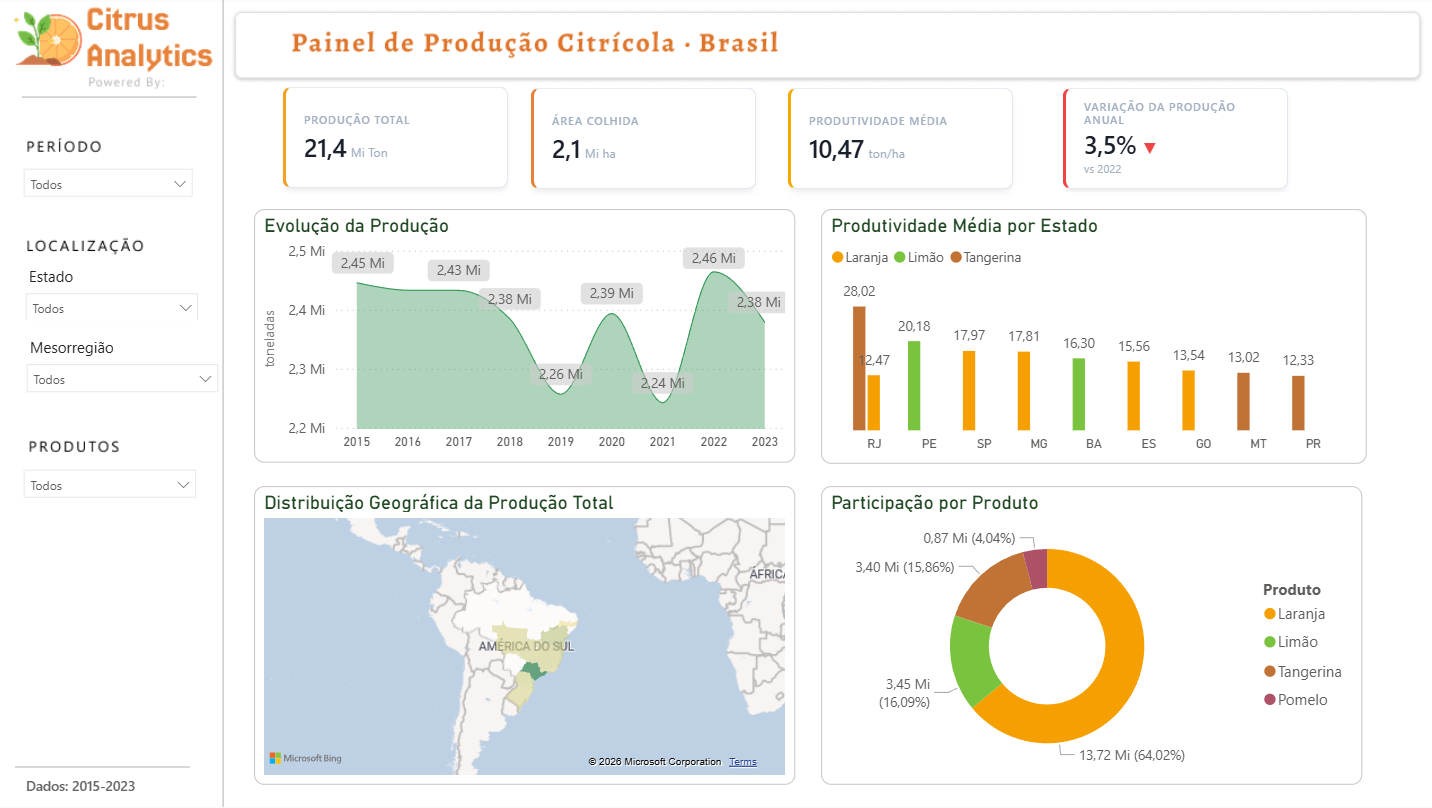

The page's visual inventory and layout, read from the dashboard file:
{"tool":"powerbi","page":{"name":"Visão Geral","canvas":[1280,720],"ordinal":0},"visuals":[{"type":"areaChart","title":"Evolução da Produção","fields":{"Category":["(FATO) Produção.ano"],"Y":["Medidas.Producao_total"]},"box":[226.2,188.1,480,225],"z":0},{"type":"htmlContent443BE3AD55E043BF878BED274D3A6855","fields":{"content":["Medidas.Card_HTML"]},"box":[246.4,74.5,211.8,103.6],"z":1000},{"type":"clusteredColumnChart","title":"Produtividade Média por Estado","fields":{"Category":["(DIM) Municipio.uf"],"Y":["Medidas.Produtividade_media"],"Series":["(DIM) Produto.nome_produto"]},"box":[728.7,188.1,483.8,226.2],"z":2000},{"type":"filledMap","title":"Distribuição Geográfica da Produção Total","fields":{"Category":["(DIM) Municipio.estado"]},"box":[226.2,433.8,480,265],"z":3000},{"type":"slicer","fields":{"Values":["(DIM) Produto.nome_produto"]},"box":[17,414,163,49],"z":4000},{"type":"slicer","fields":{"Values":["(DIM) Municipio.estado"]},"box":[18.7,238.4,163.3,47.8],"z":5000},{"type":"slicer","fields":{"Values":["(DIM) Municipio.mesorregiao"]},"box":[19.8,301.8,180,50],"z":6000},{"type":"slicer","fields":{"Values":["(FATO) Produção.ano"]},"box":[17,147,160,34],"z":7000},{"type":"htmlContent443BE3AD55E043BF878BED274D3A6855","fields":{"content":["Medidas.Card_HTML_Area"]},"box":[466.4,75.5,222.7,106.4],"z":8000},{"type":"htmlContent443BE3AD55E043BF878BED274D3A6855","fields":{"content":["Medidas.Card_HTML_Produtividade"]},"box":[694.5,75.5,231.8,110],"z":9000},{"type":"cardVisual","fields":{"Data":["Medidas.dados_ate"]},"box":[0,677.8,181.1,42.2],"z":10000},{"type":"htmlContent443BE3AD55E043BF878BED274D3A6855","fields":{"content":["Medidas.Card_HTML_Variacao"]},"box":[938.2,75.5,231.8,102.7],"z":11000},{"type":"donutChart","title":"Participação por Produto","fields":{"Y":["Medidas.Producao_total"],"Category":["(DIM) Produto.nome_produto"]},"box":[728.8,433.8,480,265],"z":12000}]}

Visuals, with their boxes on the page's 1280x720 design canvas (x1, y1, x2, y2). These are canvas units, not pixel positions in the 1432x808 screenshot, which may show the page scaled, cropped or inside an application window:
"Evolução da Produção" areaChart: select_region(226, 188, 706, 413)
htmlContent443BE3AD55E043BF878BED274D3A6855 - Medidas.Card_HTML: select_region(246, 74, 458, 178)
"Produtividade Média por Estado" clusteredColumnChart: select_region(729, 188, 1212, 414)
"Distribuição Geográfica da Produção Total" filledMap: select_region(226, 434, 706, 699)
slicer - (DIM) Produto.nome_produto: select_region(17, 414, 180, 463)
slicer - (DIM) Municipio.estado: select_region(19, 238, 182, 286)
slicer - (DIM) Municipio.mesorregiao: select_region(20, 302, 200, 352)
slicer - (FATO) Produção.ano: select_region(17, 147, 177, 181)
htmlContent443BE3AD55E043BF878BED274D3A6855 - Medidas.Card_HTML_Area: select_region(466, 76, 689, 182)
htmlContent443BE3AD55E043BF878BED274D3A6855 - Medidas.Card_HTML_Produtividade: select_region(694, 76, 926, 186)
cardVisual - Medidas.dados_ate: select_region(0, 678, 181, 720)
htmlContent443BE3AD55E043BF878BED274D3A6855 - Medidas.Card_HTML_Variacao: select_region(938, 76, 1170, 178)
"Participação por Produto" donutChart: select_region(729, 434, 1209, 699)
